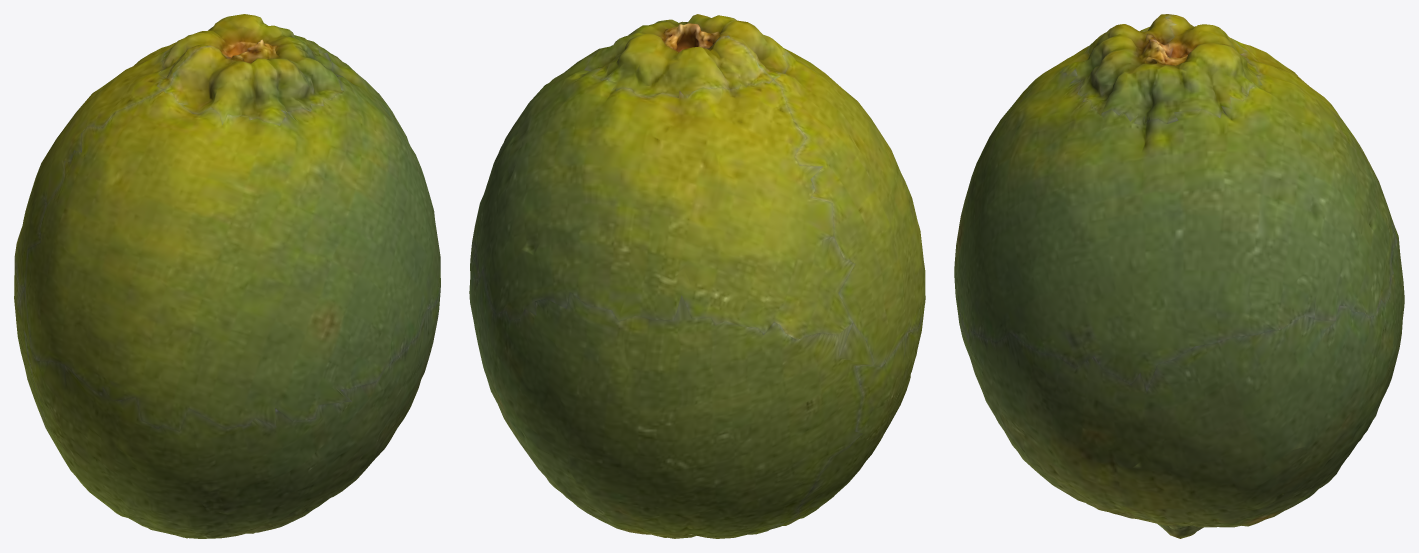
The picture shows the model from 3 angles, left to right: view 1: azimuth 30°, elevation 25°; view 2: azimuth 150°, elevation 25°; view 3: azimuth 270°, elevation 25°; orthographic projection.
Visible parts, largest first — view 1: food_lime_01; view 2: food_lime_01; view 3: food_lime_01.
Part boxes in pixels (x1,y1,x2,y2): food_lime_01: [14, 14, 440, 538]; food_lime_01: [469, 14, 925, 538]; food_lime_01: [954, 14, 1404, 538].
Size of the model in its own units: 0.0601 by 0.0754 by 0.0613.
Materials: 1 (1 with a texture image).
